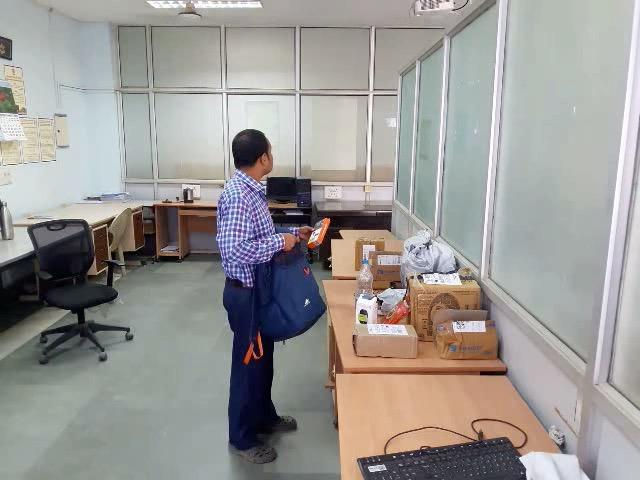shoplifting: (231, 214, 334, 369)
